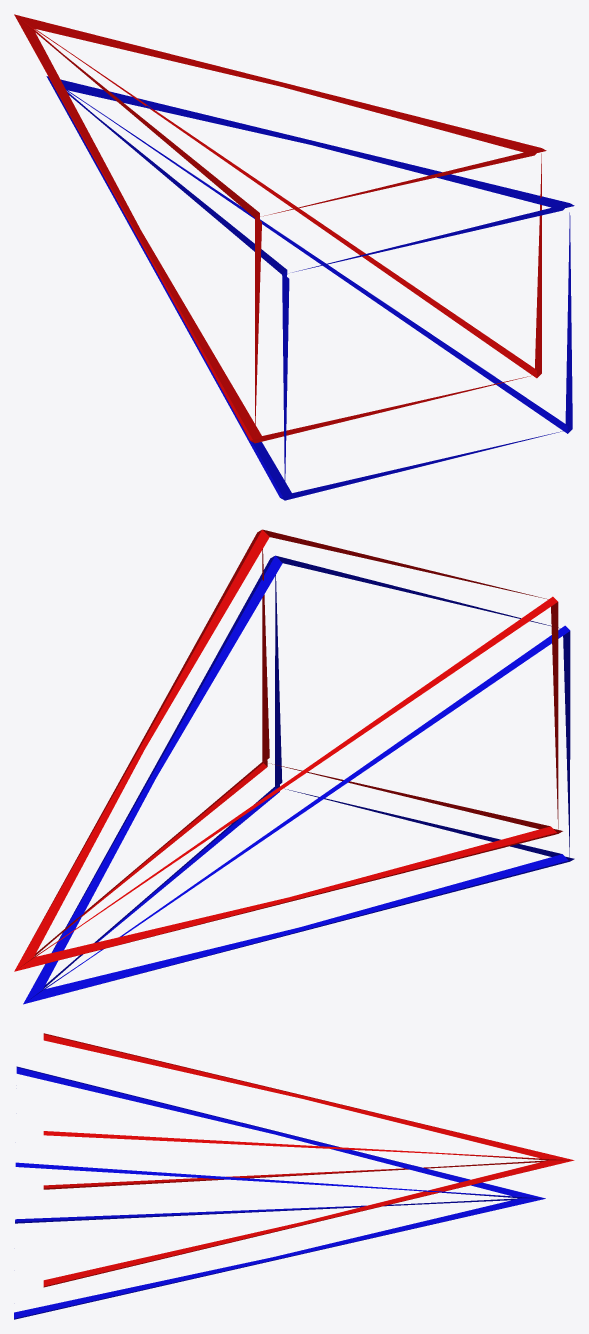
File: alice.glb
The picture shows the model from 3 angles, top to bottom: view 1: azimuth 30°, elevation 25°; view 2: azimuth 150°, elevation 25°; view 3: azimuth 270°, elevation 25°; orthographic projection. The views are drawn at different scales.
Visible parts, largest first — view 1: world; view 2: world; view 3: world.
Part boxes in pixels (<box>): world: <box>14,14,574,500</box>; world: <box>14,529,574,1004</box>; world: <box>14,1033,574,1319</box>.
Size of the model in its own units: 0.0707 by 0.061 by 0.1633.
